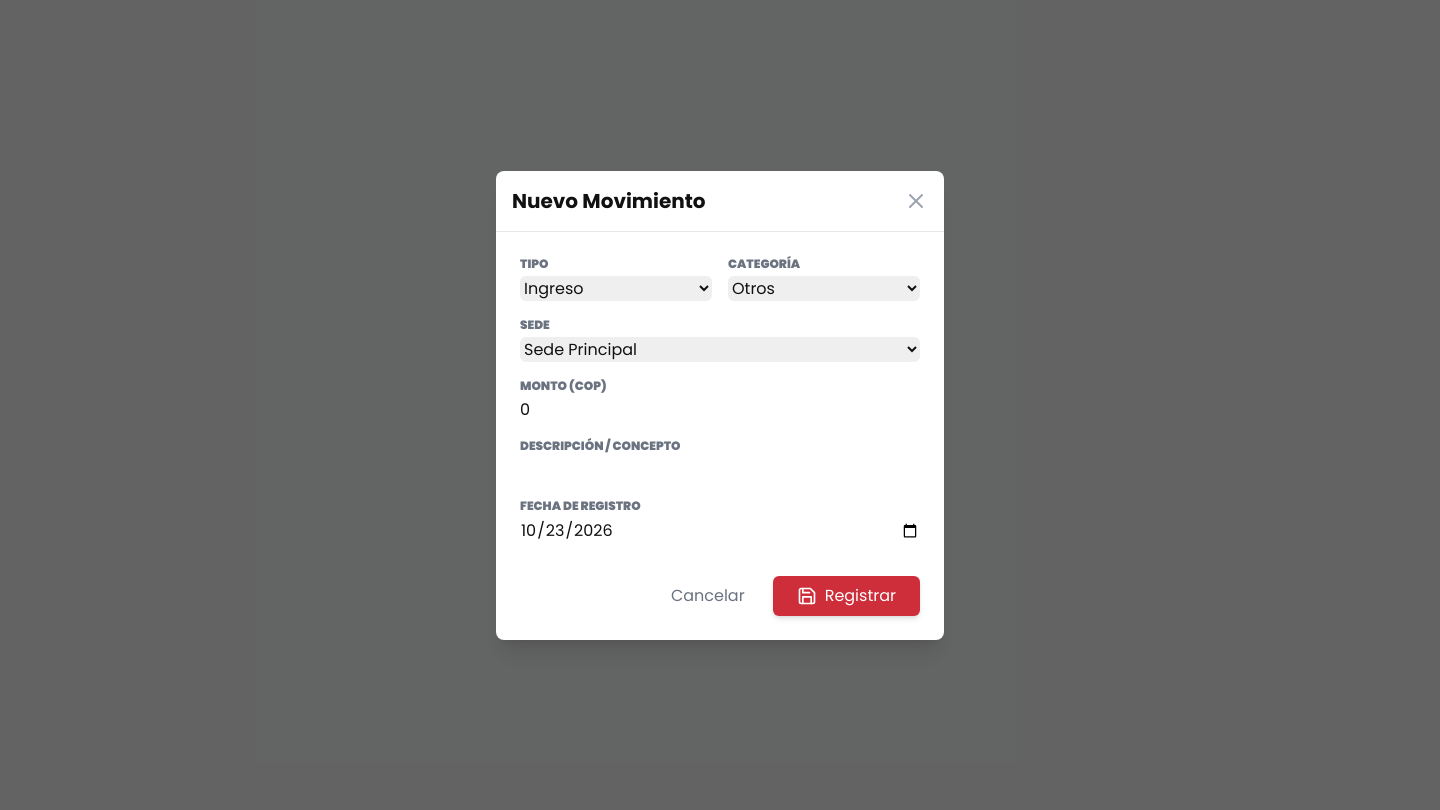
FormularioMovimiento › muestra mensajes de error cuando los campos requeridos están vacíos o el monto es menor o igual a cero
// Intentar enviar formulario vacío (monto es 0 por defecto, lo cual falla la regla de positivo)
Step 1. Click the button "Registrar" → (846,596), box 773,576 -> 920,616
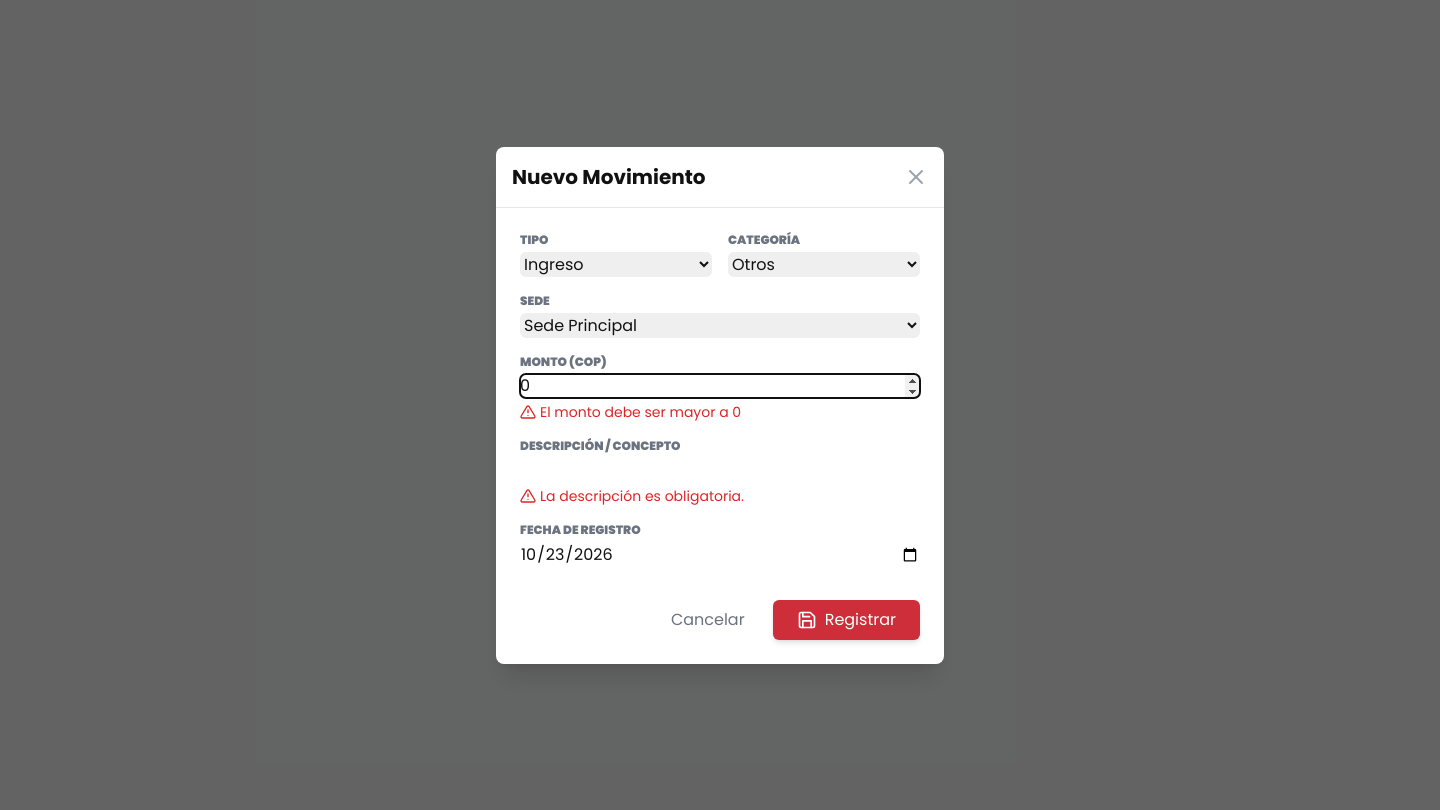
expect the text "El monto debe ser mayor a 0" is shown: met, box 540,402 -> 741,422
expect the text "La descripción es obligatoria." is shown: met, box 540,486 -> 744,506
